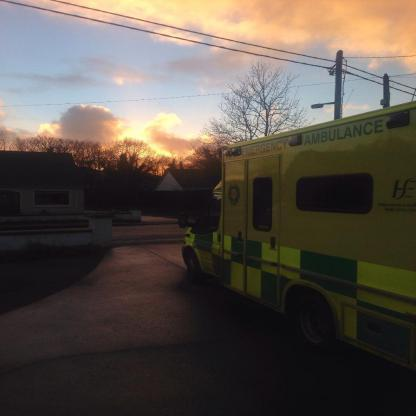Ambulance - v1 Ambulance last generate: (177, 106, 413, 350)
